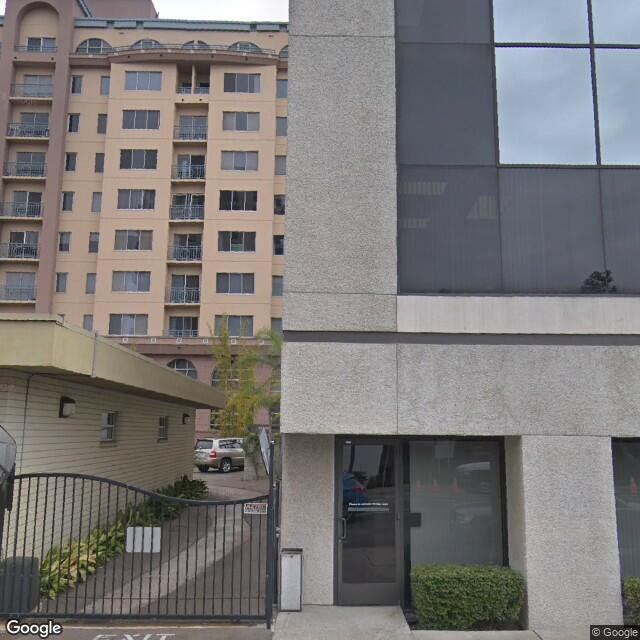window: (517, 139, 624, 294), (390, 155, 507, 287), (340, 447, 419, 548)
